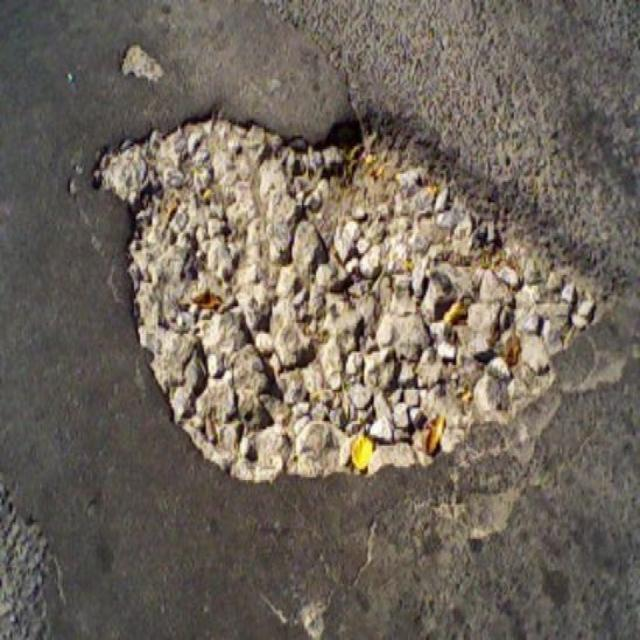pothole: (84, 100, 628, 480)
